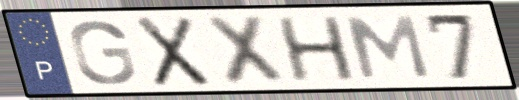7: (420, 12, 482, 82)
G: (66, 18, 138, 87)
H: (273, 14, 360, 84)
M: (343, 13, 434, 81)
X: (201, 13, 289, 86), (132, 15, 213, 89)
